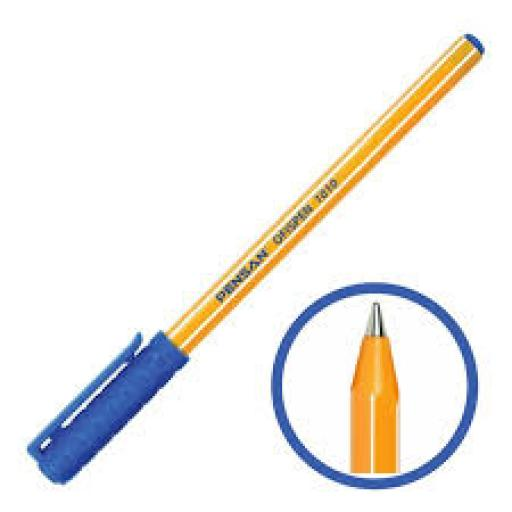tukenmez-kalem: (37, 144, 266, 481), (328, 283, 432, 479)
